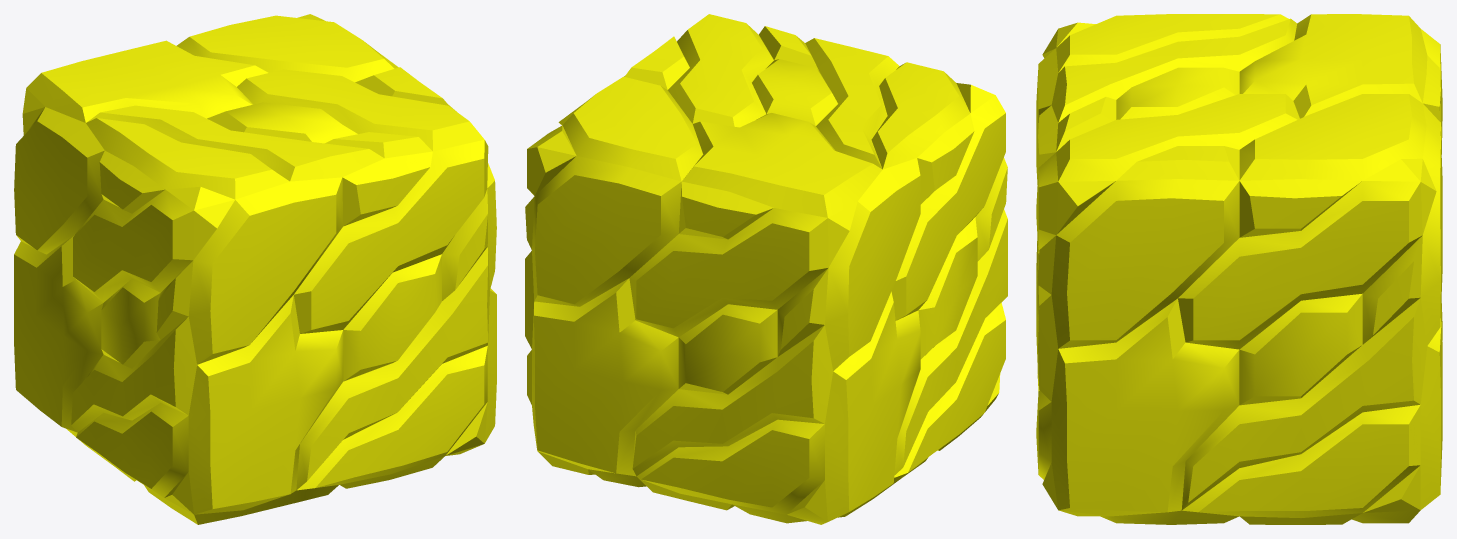
The model's file is kaykit-stone-with-gold.glb.
3 views of the same model, side by side, from view 1: azimuth 30°, elevation 25°; view 2: azimuth 150°, elevation 25°; view 3: azimuth 270°, elevation 25° (orthographic). The views are drawn at different scales.
Parts seen in each view (by area): view 1: stone_with_gold; view 2: stone_with_gold; view 3: stone_with_gold.
Part boxes in pixels (x1,y1,x2,y2): stone_with_gold: (14, 14, 496, 524); stone_with_gold: (525, 14, 1007, 524); stone_with_gold: (1036, 14, 1442, 524).
Size of the model in its own units: 2.02 by 2.02 by 2.02.
